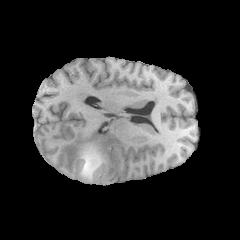glioma: (61, 126, 124, 181)
